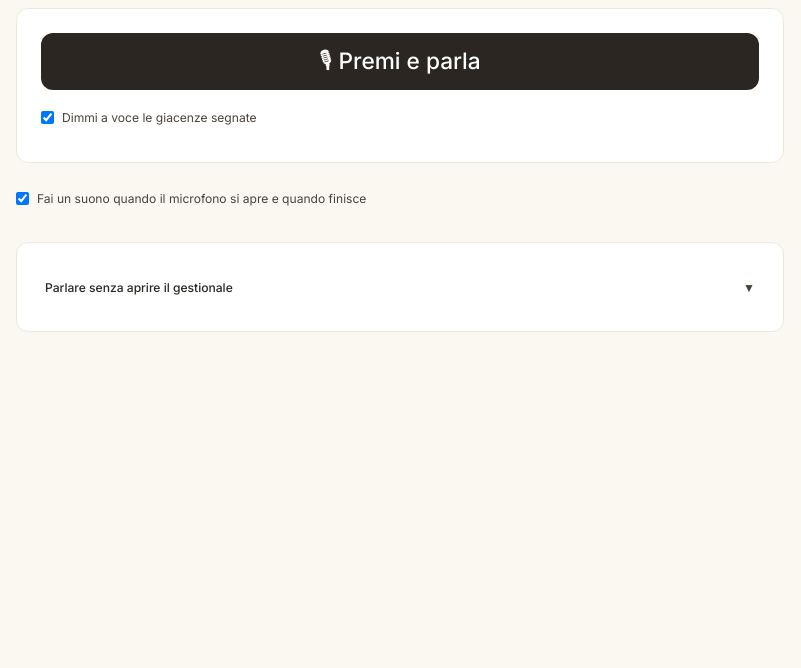
🔴 tre appuntamenti detti insieme restano tre › 🔴 una frase mista che non si separa: la scheda DA CHIARIRE non si approva e dice perché
The width and height of the screenshot is (801, 668).
Click the button "🎙 Premi e parla" at (400, 62), box [41,33,759,90]
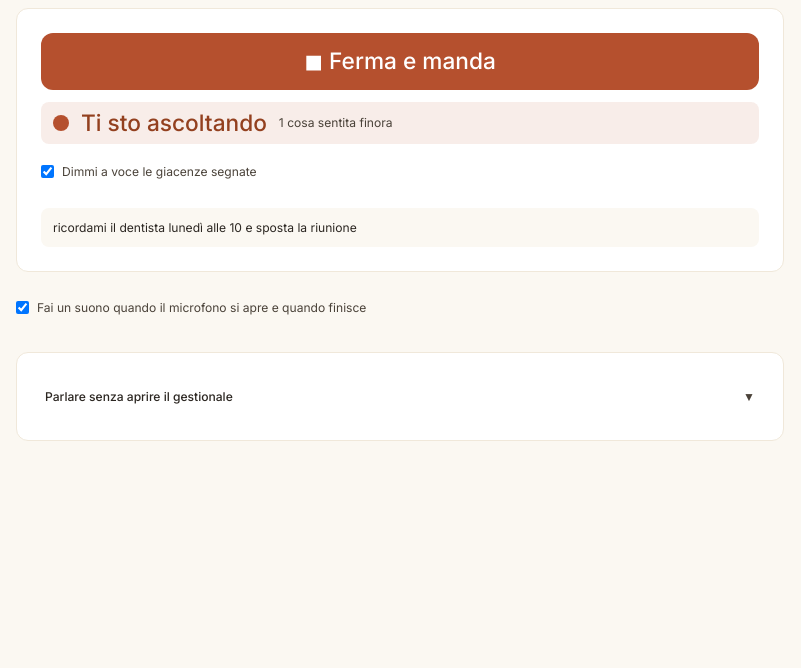
Click the button "◼ Ferma e manda" at (400, 62), box [41,33,759,90]
(page scrolled)
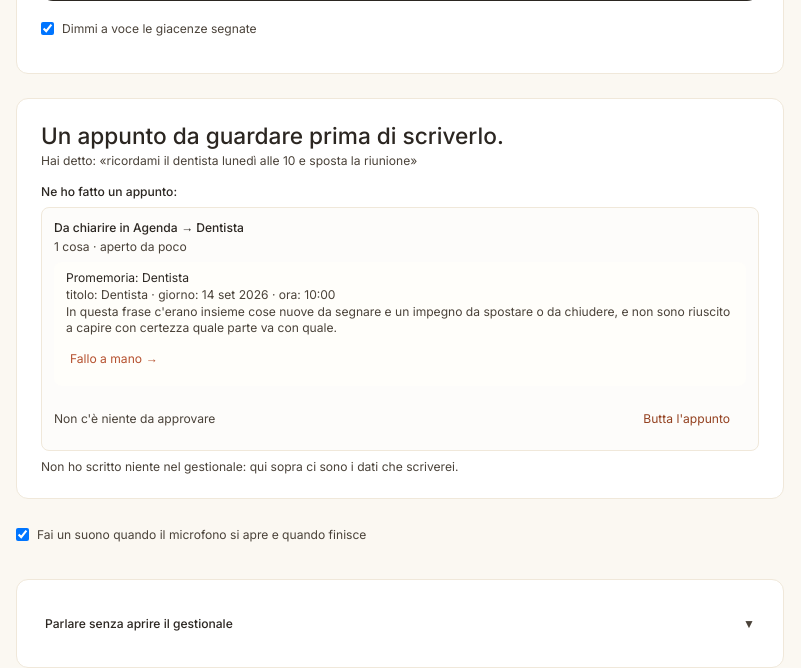
Now the text "non sono riuscito a capire con certezza" is shown, box [66,304,730,334]
